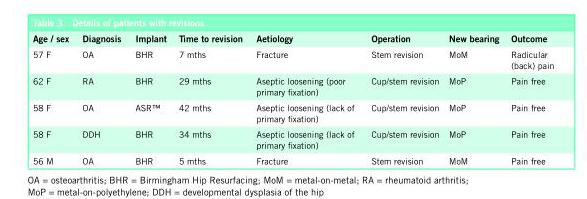table: (31, 32, 553, 165)
table column: (248, 32, 362, 165), (362, 32, 443, 165), (171, 32, 248, 165), (443, 32, 504, 165), (74, 32, 127, 165), (504, 32, 553, 165), (127, 32, 171, 165), (31, 32, 74, 165)
table column header: (31, 32, 553, 46)
table row: (31, 72, 553, 99), (31, 125, 553, 152), (31, 46, 553, 72), (31, 99, 553, 125), (31, 32, 553, 46), (31, 152, 553, 165)
